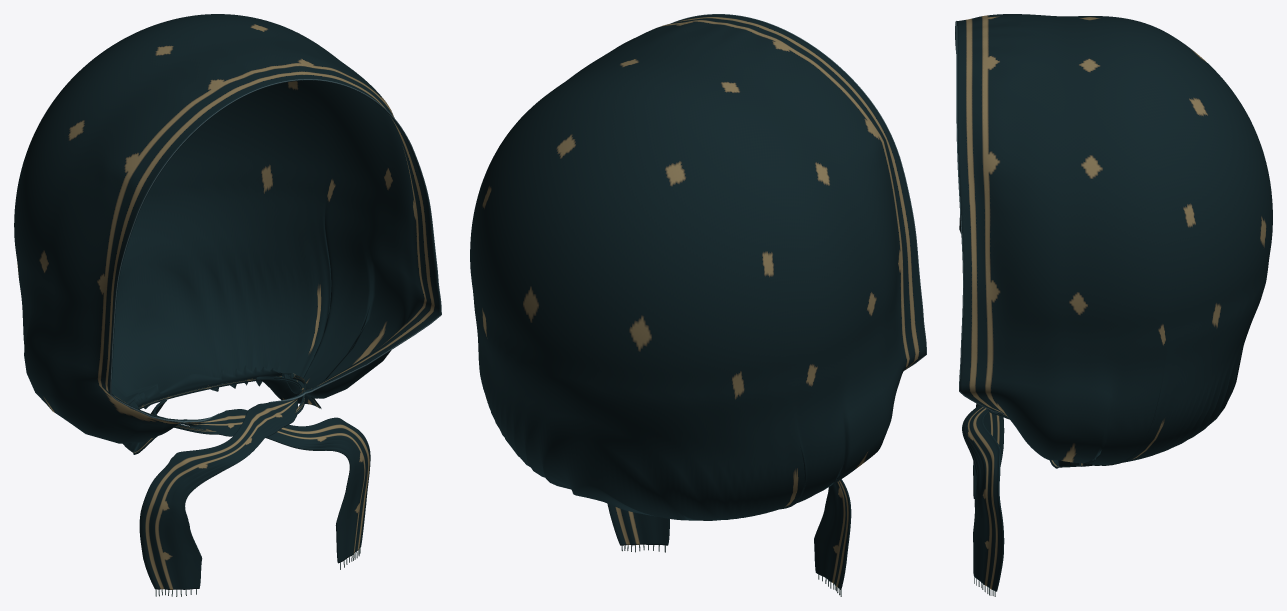
Rendered from Masculine-Masculine-taper-buttonup-pashmina250-headgear-3f073d6d.glb.
3 views of the same model, side by side, from view 1: azimuth 30°, elevation 25°; view 2: azimuth 150°, elevation 25°; view 3: azimuth 270°, elevation 25° (orthographic). The views are drawn at different scales.
Parts seen in each view (by area): view 1: 226 headgear / Headwear / continuous woven pashmina239, 226 headgear / Headwear / face edge239; view 2: 226 headgear / Headwear / continuous woven pashmina239, 226 headgear / Headwear / face edge239; view 3: 226 headgear / Headwear / continuous woven pashmina239, 226 headgear / Headwear / face edge239.
Boxes of the visible parts, <box> form: 226 headgear / Headwear / continuous woven pashmina239: <box>14,14,440,589</box>; 226 headgear / Headwear / face edge239: <box>110,79,441,422</box>; 226 headgear / Headwear / continuous woven pashmina239: <box>470,14,925,589</box>; 226 headgear / Headwear / face edge239: <box>671,14,926,370</box>; 226 headgear / Headwear / continuous woven pashmina239: <box>955,14,1272,591</box>; 226 headgear / Headwear / face edge239: <box>955,21,1004,414</box>.
Size of the model in its own units: 0.8786 by 1.22 by 0.681.
3 materials, 1 textured.
